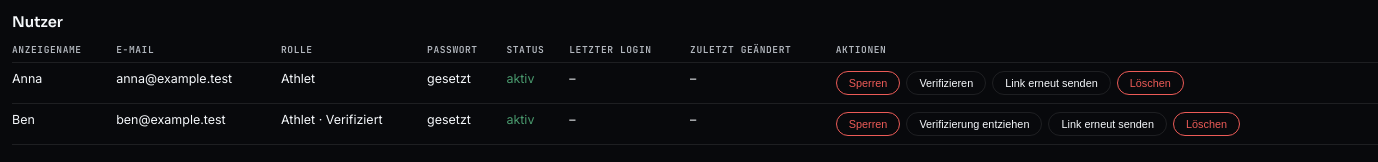
Test: AdminUsersTable — Verifizierte Autoren › 'Verifizieren' ruft den Server mit der Nutzer-ID und lädt die Liste neu
Expected: the text "Anna" is shown, [12,62,116,103]
Click the button with aria-label "Anna verifizieren": (946, 83) [906,71,986,95]
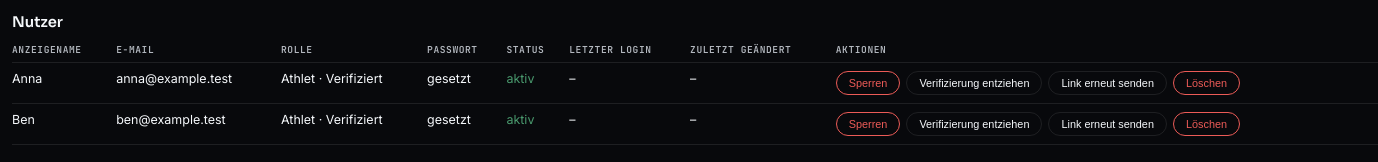
Now the text "Athlet · Verifiziert" next to "anna@example.test" is shown, box [281,71,383,86]
